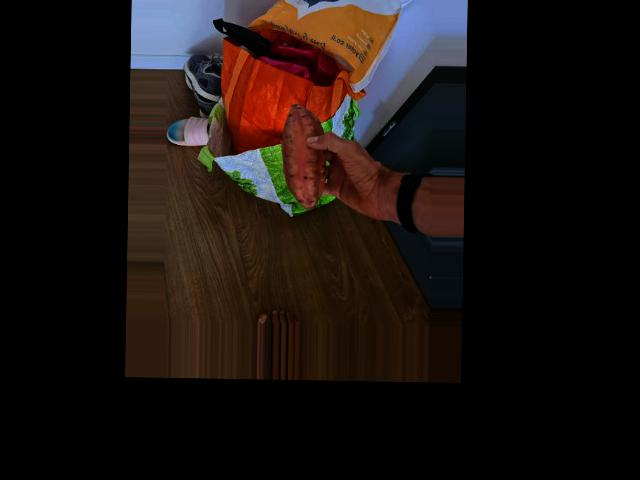sweet_potato: (283, 102, 331, 212)
